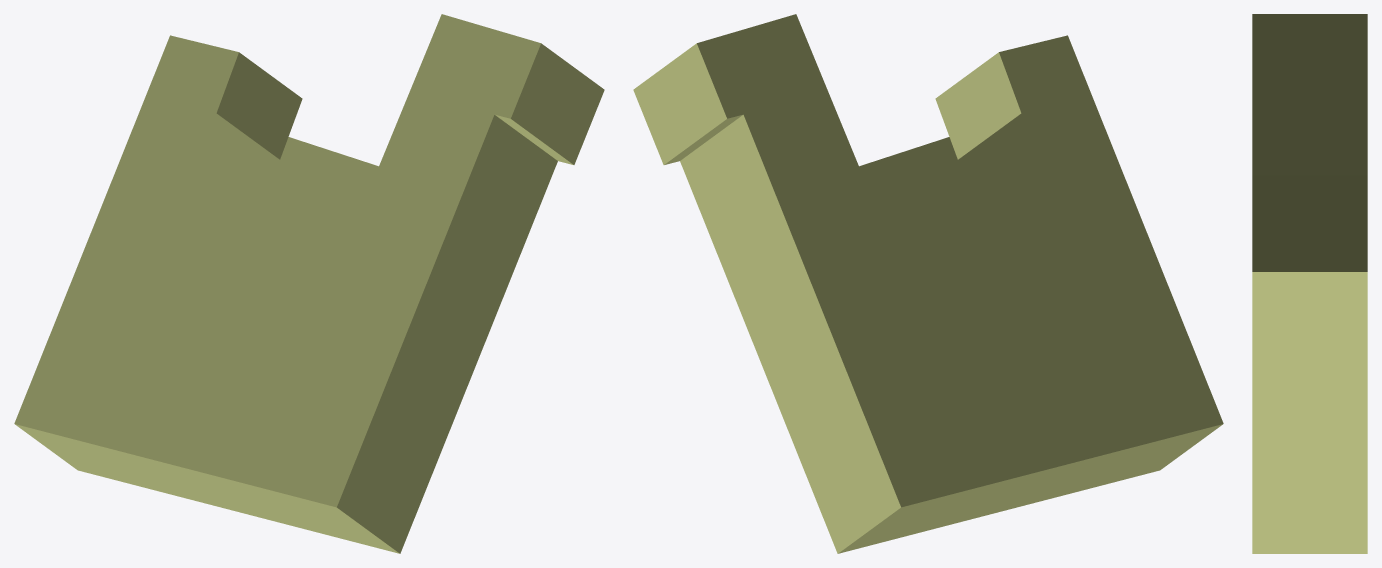
The picture shows the model from 3 angles, left to right: view 1: azimuth 30°, elevation 25°; view 2: azimuth 150°, elevation 25°; view 3: azimuth 270°, elevation 25°; orthographic projection. The views are drawn at different scales.
Visible parts, largest first — view 1: 0_1_0_0_1_0_3_2_1; view 2: 0_1_0_0_1_0_3_2_1; view 3: 0_1_0_0_1_0_3_2_1.
Part boxes in pixels (x1,y1,x2,y2): 0_1_0_0_1_0_3_2_1: (14, 14, 604, 553); 0_1_0_0_1_0_3_2_1: (633, 14, 1223, 553); 0_1_0_0_1_0_3_2_1: (1252, 14, 1367, 553).
Bounding box in the file's own units: 28.73 × 26.71 × 6.
